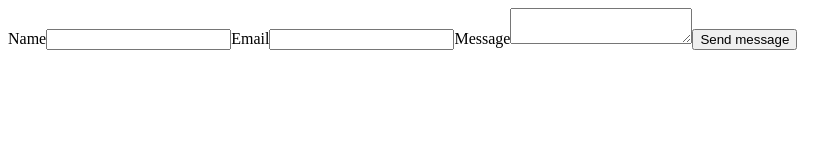
Test case: ContactForm › blocks submit with empty fields and shows an error
Click the button "Send message" at (745, 40), box [692, 29, 797, 50]
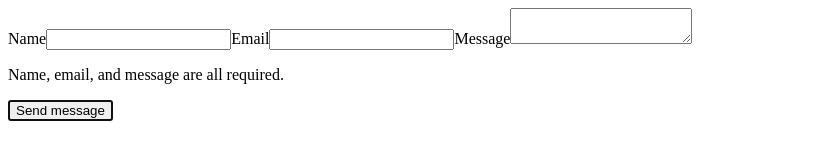
Check: the message shows "all required", box [8, 66, 284, 83]
